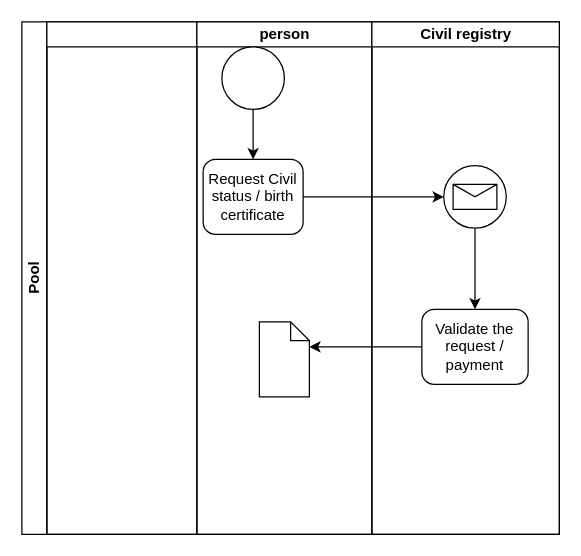
This 581x556 diagram has some shape labels left out. The centre of each missing label's shape, as x and y in pixels:
Birth Certificate request: pixel 474 196
Civil Status summary / "birth certificate": pixel 283 359
local authorities: pixel 121 277
